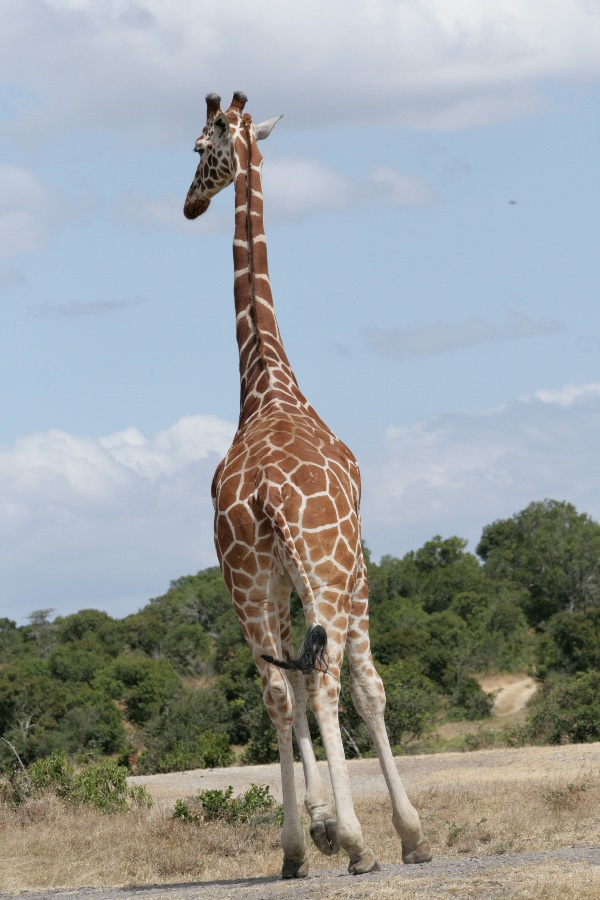giraffe: (165, 82, 453, 878)
